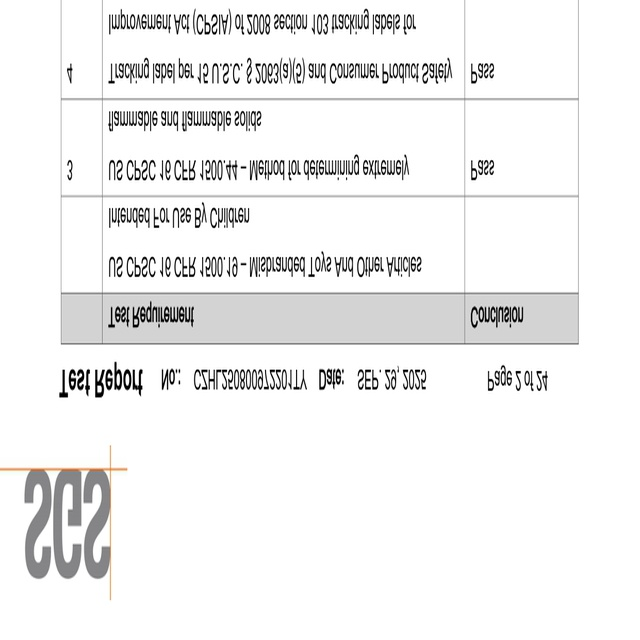sgs: (23, 467, 112, 579)
